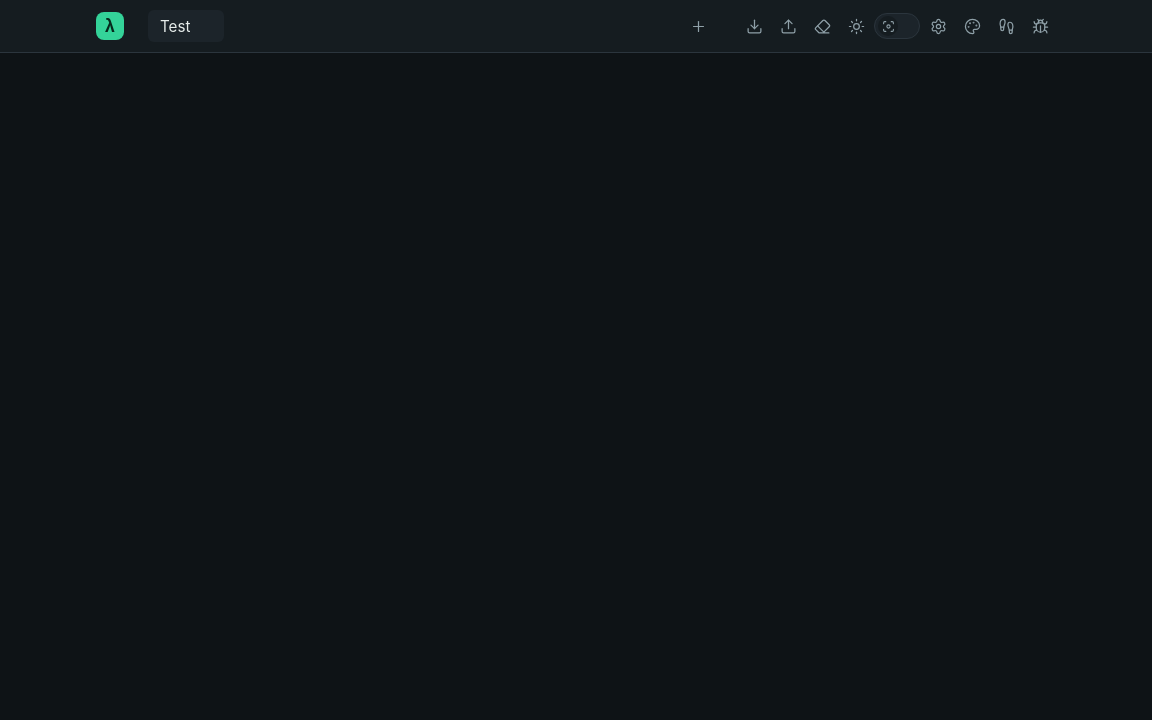
Test: the global settings panel closes on outside click too
The image size is (1152, 720).
Click the button titled "Notebook settings" at (938, 26), box x1=922 y1=10 x2=954 y2=42
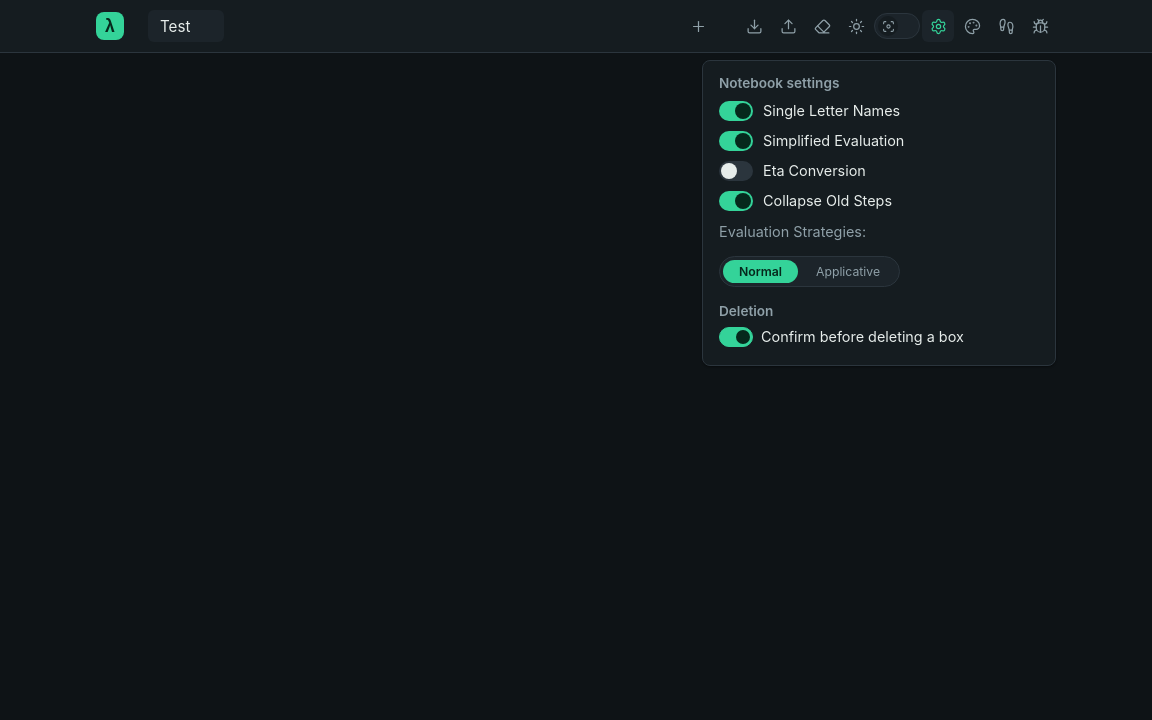
Expected: the element with class "top-bar--settings-panel" is shown, x1=702 y1=60 x2=1056 y2=366
Click the element with class "top-bar--backdrop" at (576, 360), box x1=0 y1=0 x2=1151 y2=719
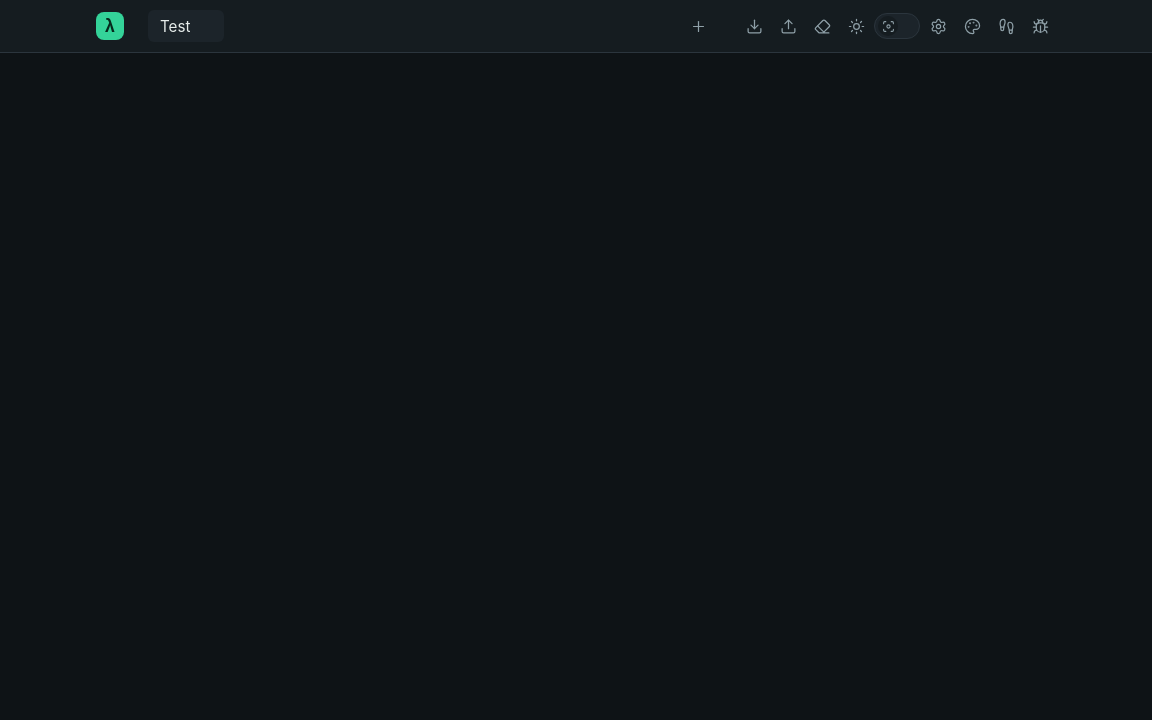
Expected: the element with class "top-bar--settings-panel" is gone
